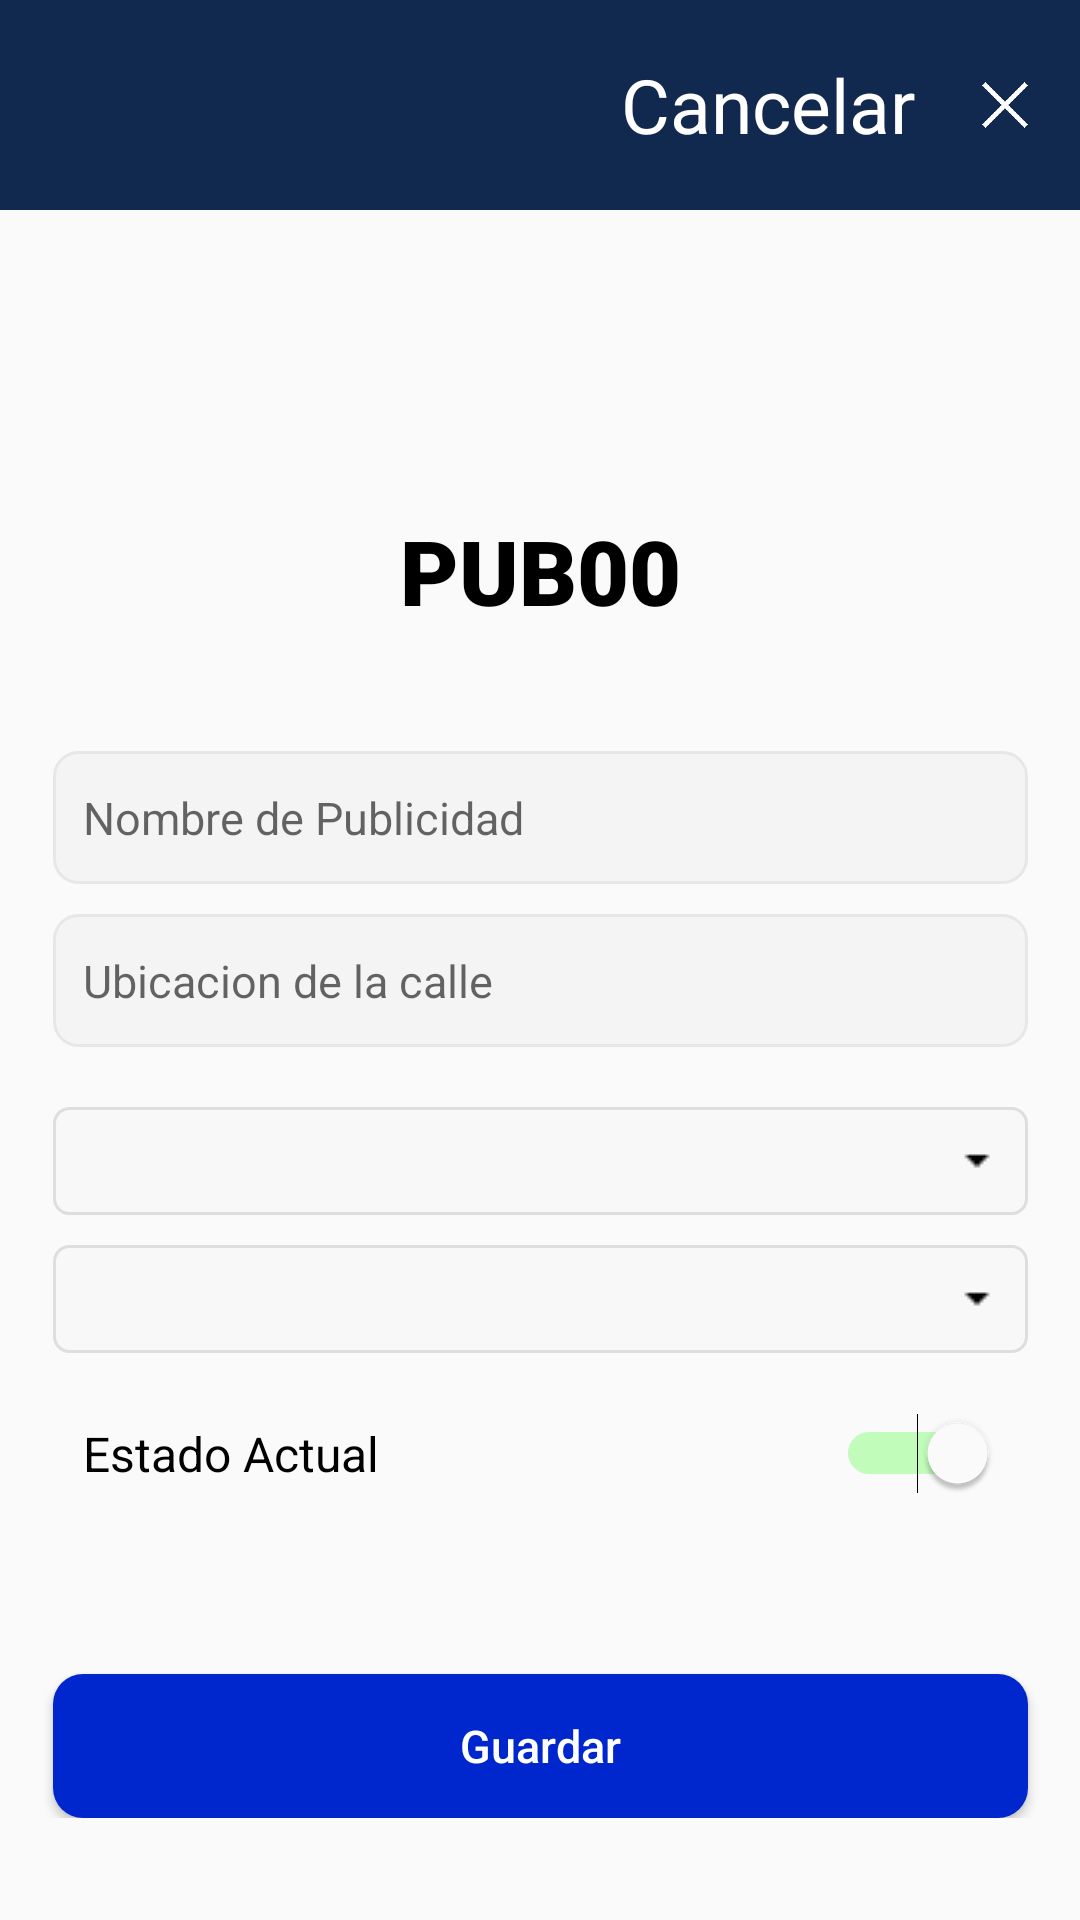

Icons on this 1080 x 1920 Android screen, each with the point to tap as point (x, y):
cancelx: point (1005, 105)
